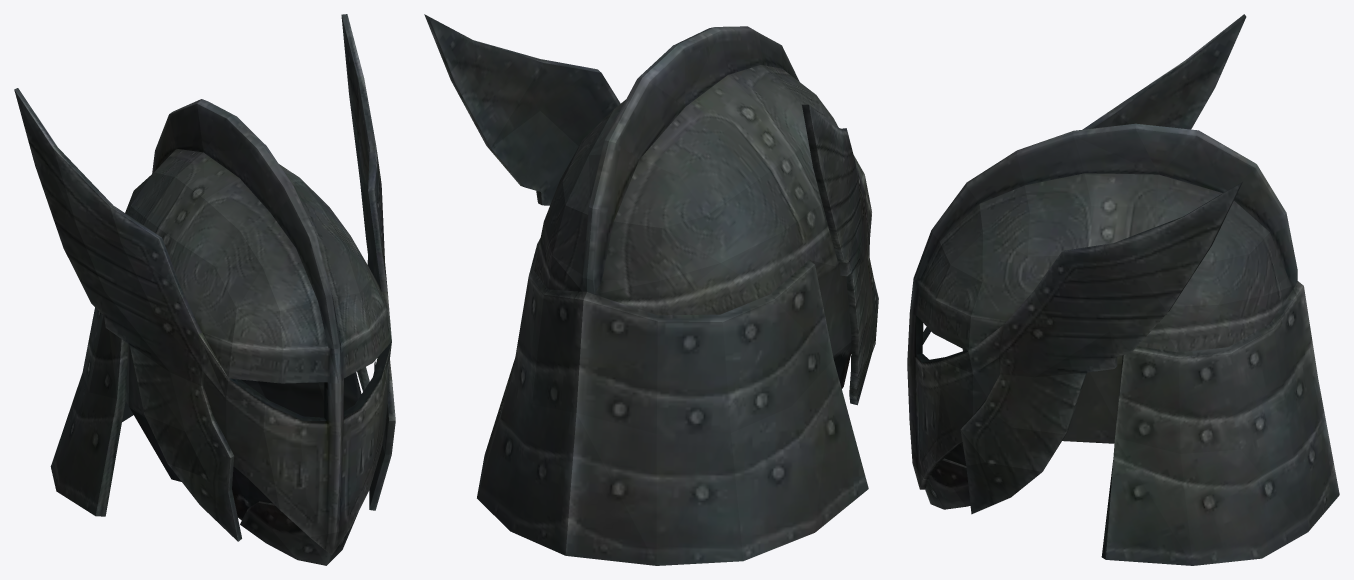
The model's file is HELMETNORD2.glb.
3 renders of one model, left to right at view 1: azimuth 30°, elevation 25°; view 2: azimuth 150°, elevation 25°; view 3: azimuth 270°, elevation 25°, orthographic. The views are drawn at different scales.
Parts seen in each view (by area): view 1: HELMETNORD2; view 2: HELMETNORD2; view 3: HELMETNORD2.
Part boxes in pixels (bbox=[...]): HELMETNORD2: bbox=[14, 14, 395, 565]; HELMETNORD2: bbox=[424, 14, 878, 565]; HELMETNORD2: bbox=[907, 14, 1339, 565].
Bounding box in the file's own units: 0.3439 × 0.3992 × 0.3807.
Materials: 1 (1 with a texture image).
